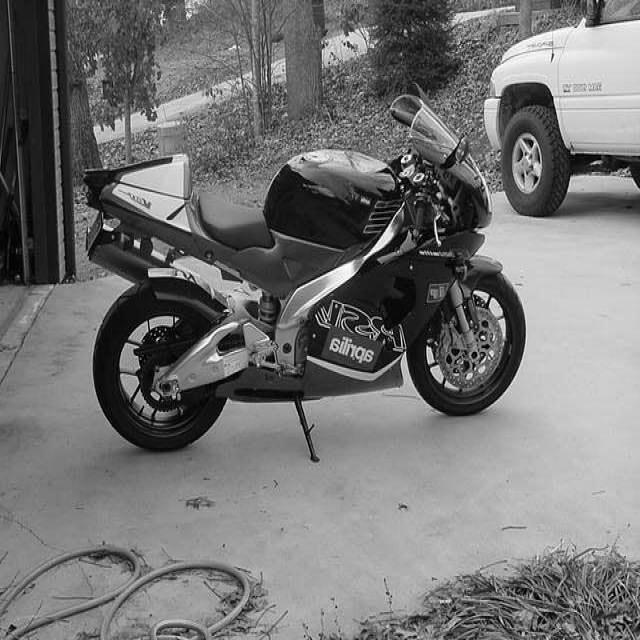Car: (485, 0, 640, 215)
Motorcycle: (85, 93, 527, 461)
